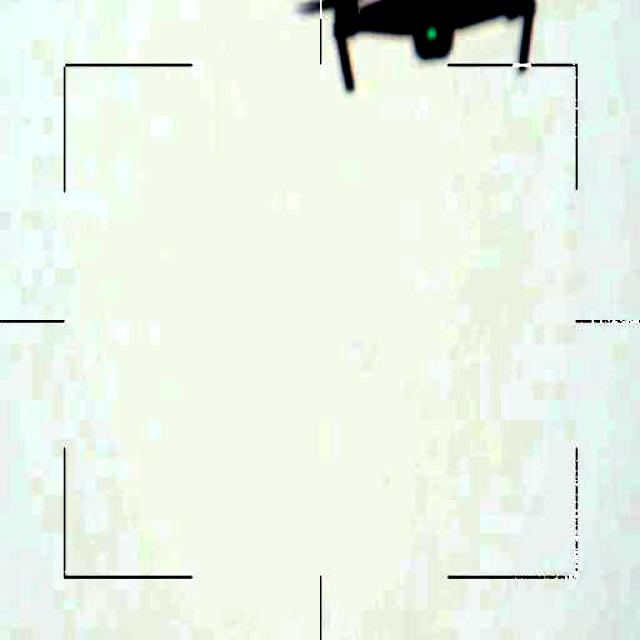bird: (289, 0, 588, 91)
